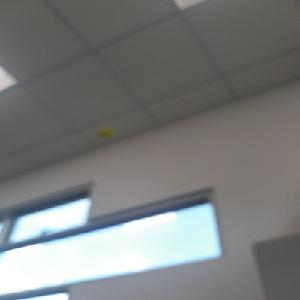Ball: (97, 127, 112, 138)
